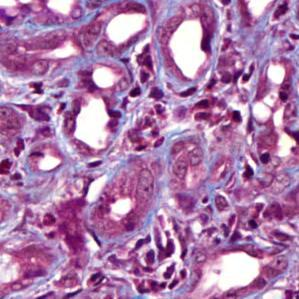steatosis: (87, 63, 121, 87)
